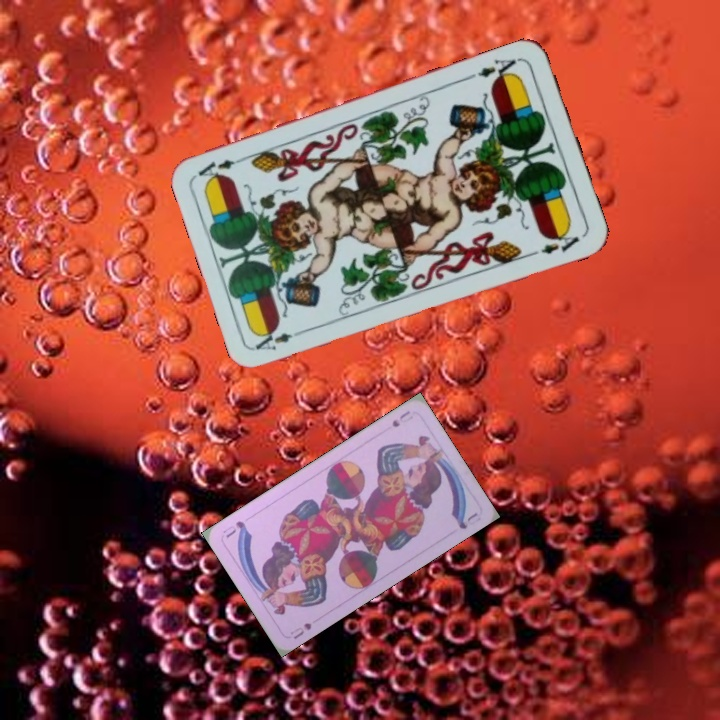EA: (466, 54, 523, 85), (251, 325, 309, 353)
SU: (388, 406, 416, 430), (286, 618, 314, 642)
